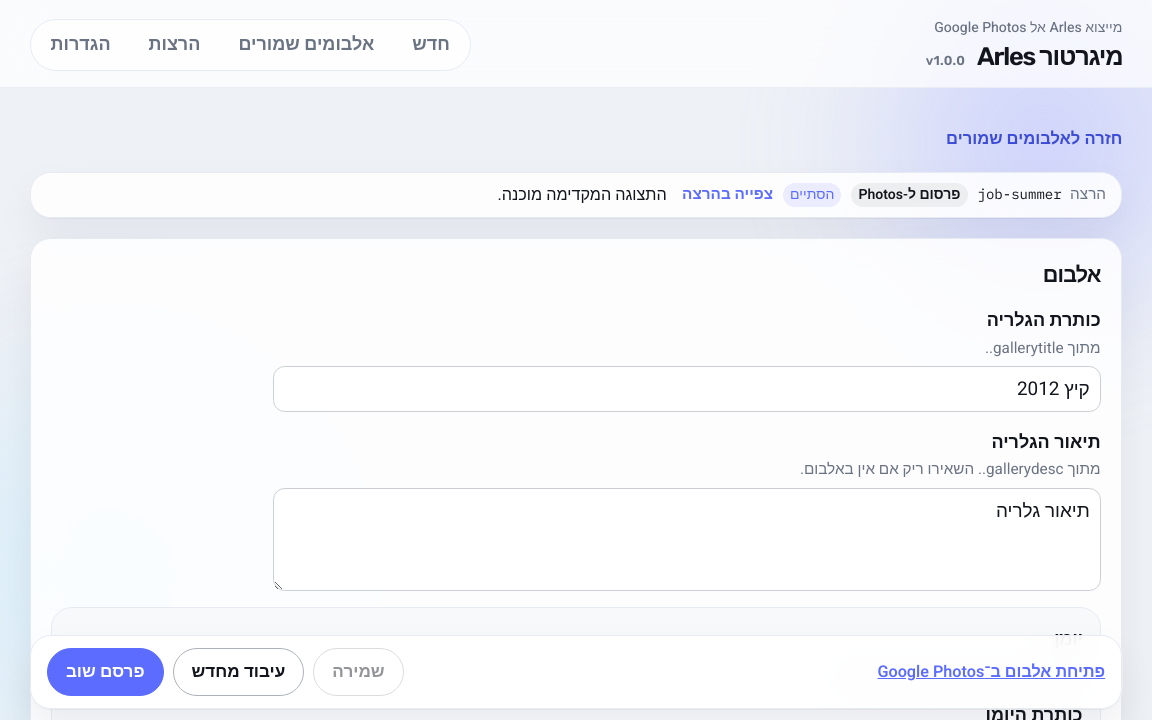
Test: App routes › asks in-app before reprocess and skips the request on cancel
Expected: the field labelled "כותרת הגלריה" holds "קיץ 2012", top-left (273, 366), bottom-right (1101, 412)
Click the button "עיבוד מחדש" at (238, 672), box top-left (173, 648), bottom-right (304, 696)
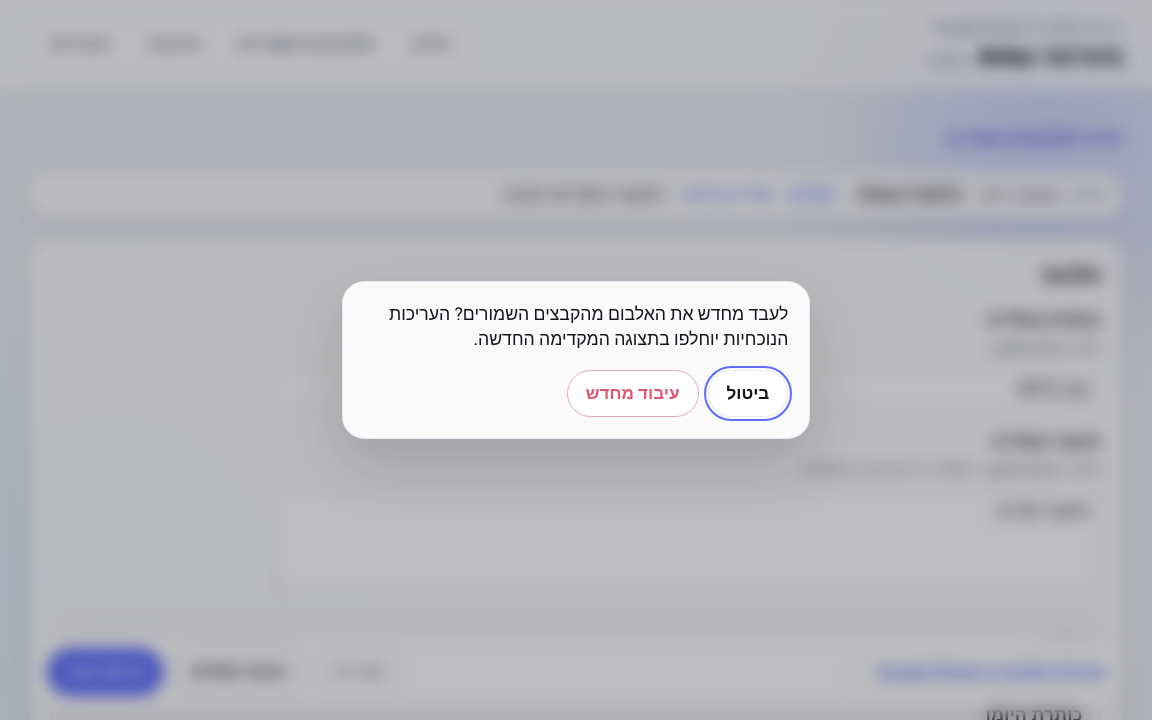
Expected: the dialog named "לעבד מחדש את האלבום מהקבצים השמורים? העריכות הנוכחיות יוחלפו בתצוגה המקדימה החדשה." is shown
Click the button "ביטול" at (748, 394), box top-left (708, 370), bottom-right (788, 417)
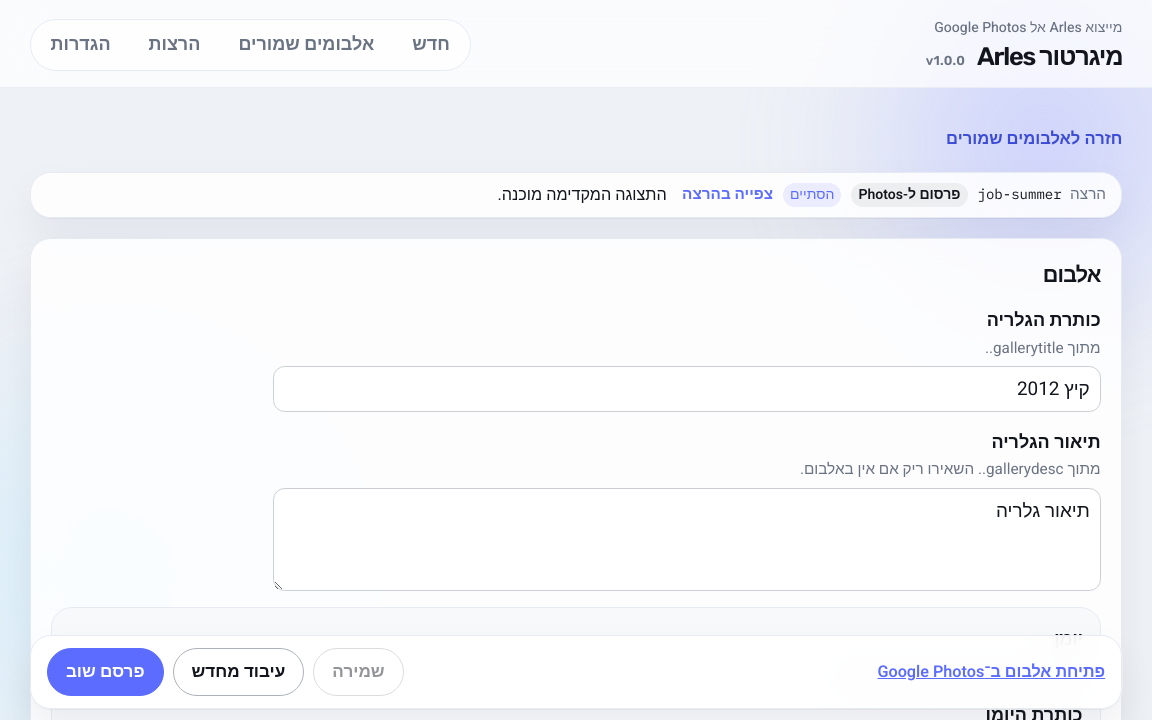
Expected: the field labelled "כותרת הגלריה" holds "קיץ 2012", top-left (273, 366), bottom-right (1101, 412)
Expected: the text "לעבד מחדש את האלבום מהקבצים השמורים? העריכות הנוכחיות יוחלפו בתצוגה המקדימה החדשה." is gone
